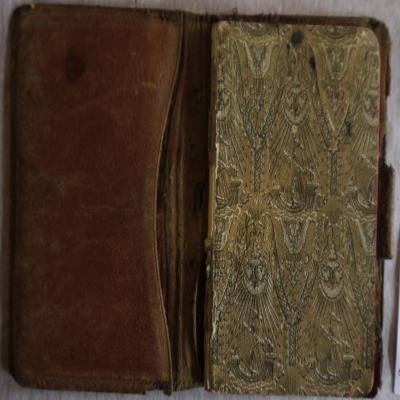document: (0, 0, 391, 400)
